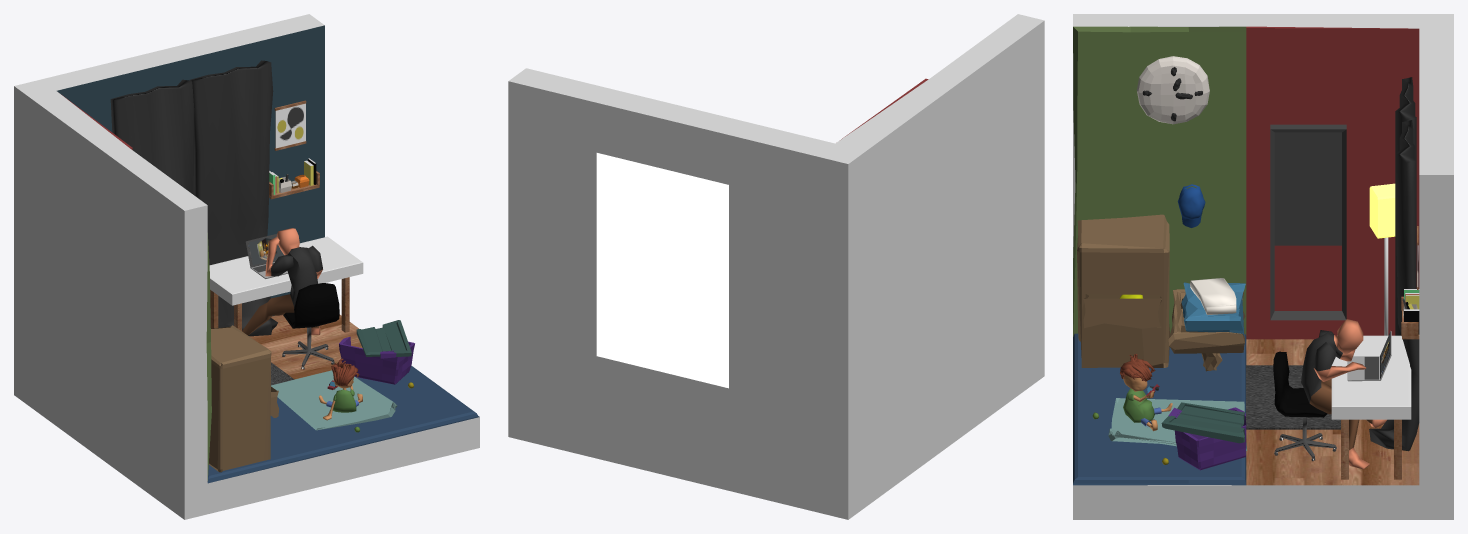
3 renders of one model, left to right at view 1: azimuth 30°, elevation 25°; view 2: azimuth 150°, elevation 25°; view 3: azimuth 270°, elevation 25°, orthographic. The views are drawn at different scales.
Visible parts, largest first — view 1: room, curtain.R, dresser, curtain.L, desk, rug, adult, officeChair, container, container lid, art, laptop (+1 smaller); view 2: room; view 3: room, dresser, mirror, desk, curtain.R, bedClay, clock, Plane, adult, rug, officeChair, container lid (+9 smaller).
Part boxes in pixels (x1,y1,x2,y2): room: (14, 14, 479, 519); curtain.R: (189, 60, 277, 336); dresser: (208, 325, 279, 472); curtain.L: (110, 79, 194, 194); desk: (209, 236, 363, 332); rug: (271, 370, 397, 430); adult: (242, 228, 320, 335); officeChair: (282, 283, 339, 369); container: (339, 336, 414, 384); container lid: (356, 320, 411, 358); art: (275, 103, 305, 148); laptop: (245, 234, 287, 278); room: (508, 14, 1044, 519); room: (1073, 14, 1453, 519); dresser: (1077, 214, 1169, 367); mirror: (1270, 124, 1346, 320); desk: (1331, 335, 1411, 479); curtain.R: (1369, 120, 1419, 451); bedClay: (1168, 282, 1245, 371); clock: (1137, 56, 1209, 124); Plane: (1246, 365, 1340, 429); adult: (1301, 319, 1386, 469); rug: (1108, 398, 1247, 450); officeChair: (1273, 351, 1336, 461); container lid: (1161, 402, 1244, 443).
Size of what is drawn, in the model's own units: 4.41 by 4.41 by 4.41.
Materials: 48 (4 with a texture image).
